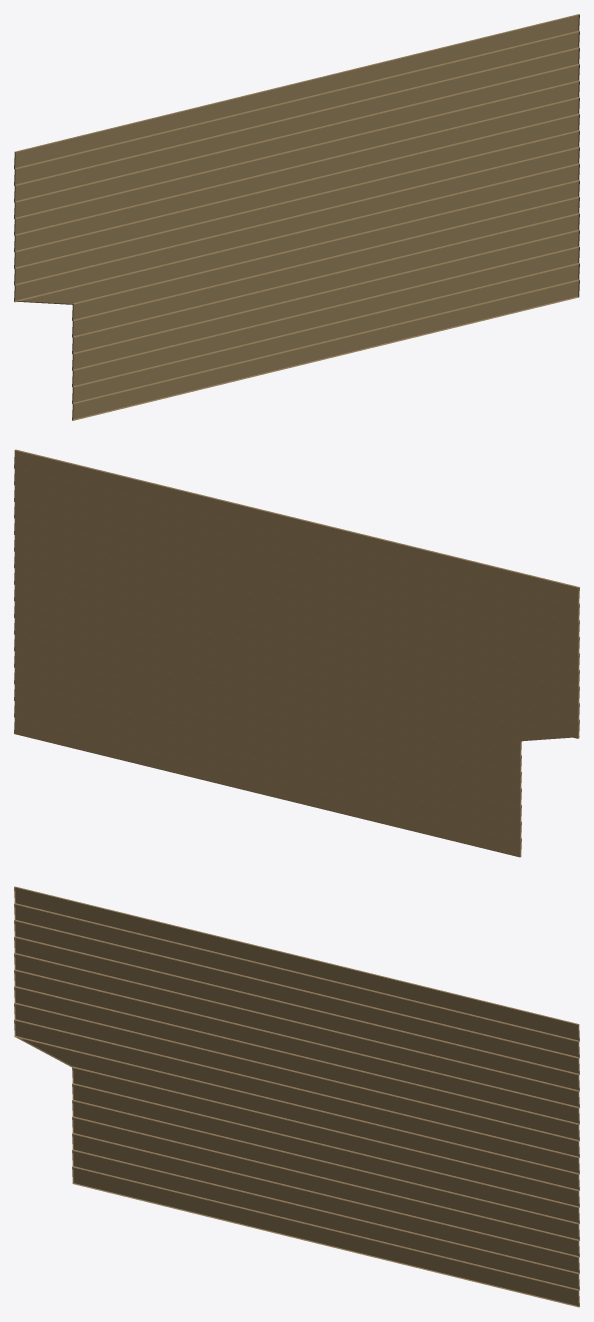
The model's file is M_Pared Grande Madera.fbx.
3 views of the same model, one above another, from view 1: azimuth 30°, elevation 25°; view 2: azimuth 150°, elevation 25°; view 3: azimuth 330°, elevation 25° (orthographic).
Visible parts, largest first — view 1: Building2_Building2_polySurface90; view 2: Building2_Building2_polySurface90; view 3: Building2_Building2_polySurface90.
Part boxes in pixels (x1,y1,x2,y2): Building2_Building2_polySurface90: (14,14,579,420); Building2_Building2_polySurface90: (14,449,579,857); Building2_Building2_polySurface90: (14,886,579,1307).
Size of the model in its own units: 188 by 90.15 by 1.09.
